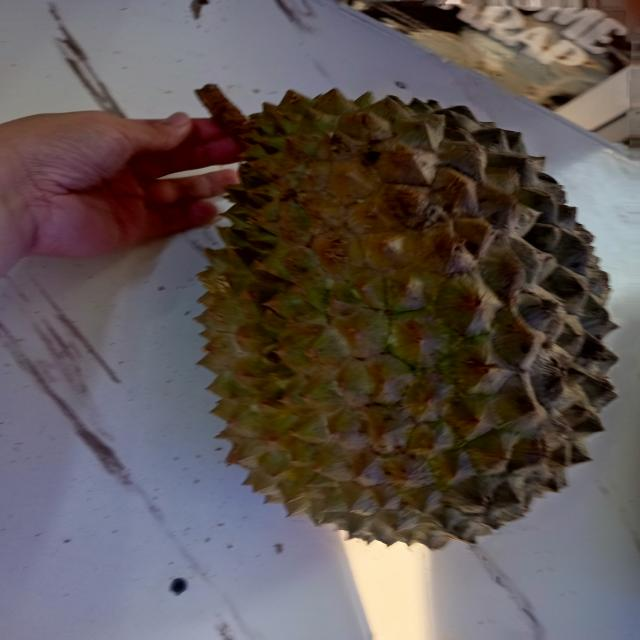mature: (202, 82, 630, 556)
